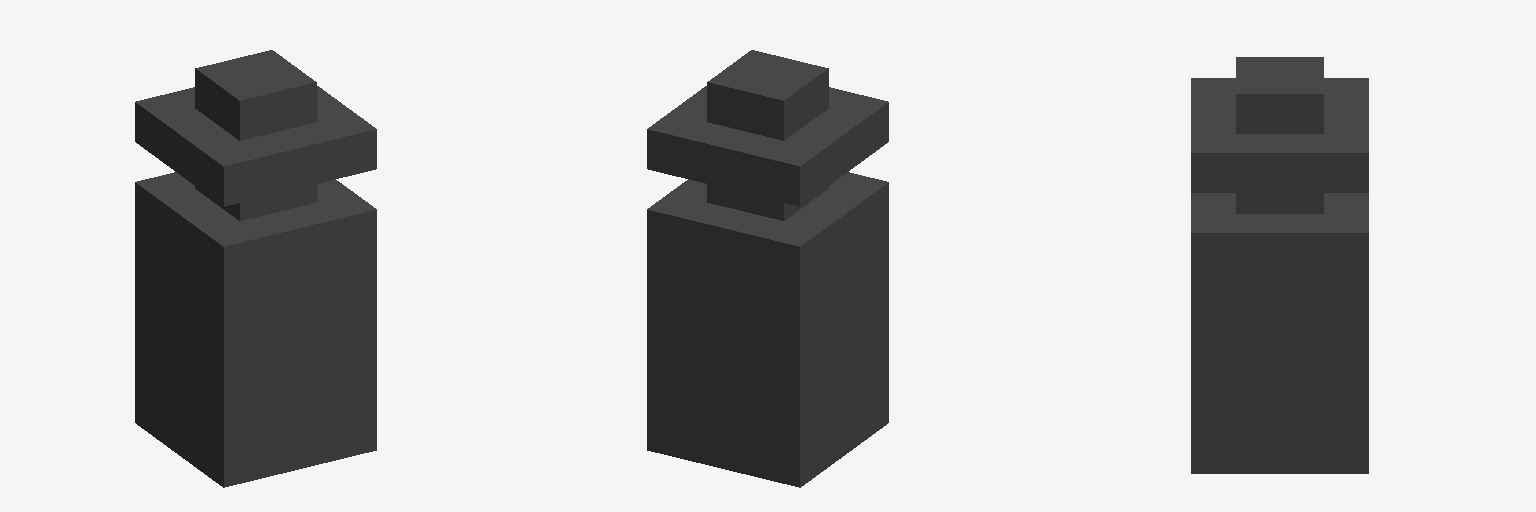
The picture shows the model from 3 angles: view 1: azimuth 30°, elevation 25°; view 2: azimuth 150°, elevation 25°; view 3: azimuth 270°, elevation 25°; orthographic projection.
Visible parts, largest first — view 1: object 1; view 2: object 1; view 3: object 1.
Part boxes in pixels (x1,y1,x2,y2): object 1: (135,50,376,487); object 1: (647,50,888,487); object 1: (1191,57,1368,473).
Size of the model in its own units: 0.4 by 0.9 by 0.4.
1 materials, 1 textured.